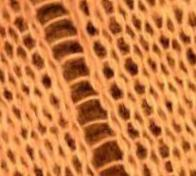slub: (33, 0, 132, 176)
